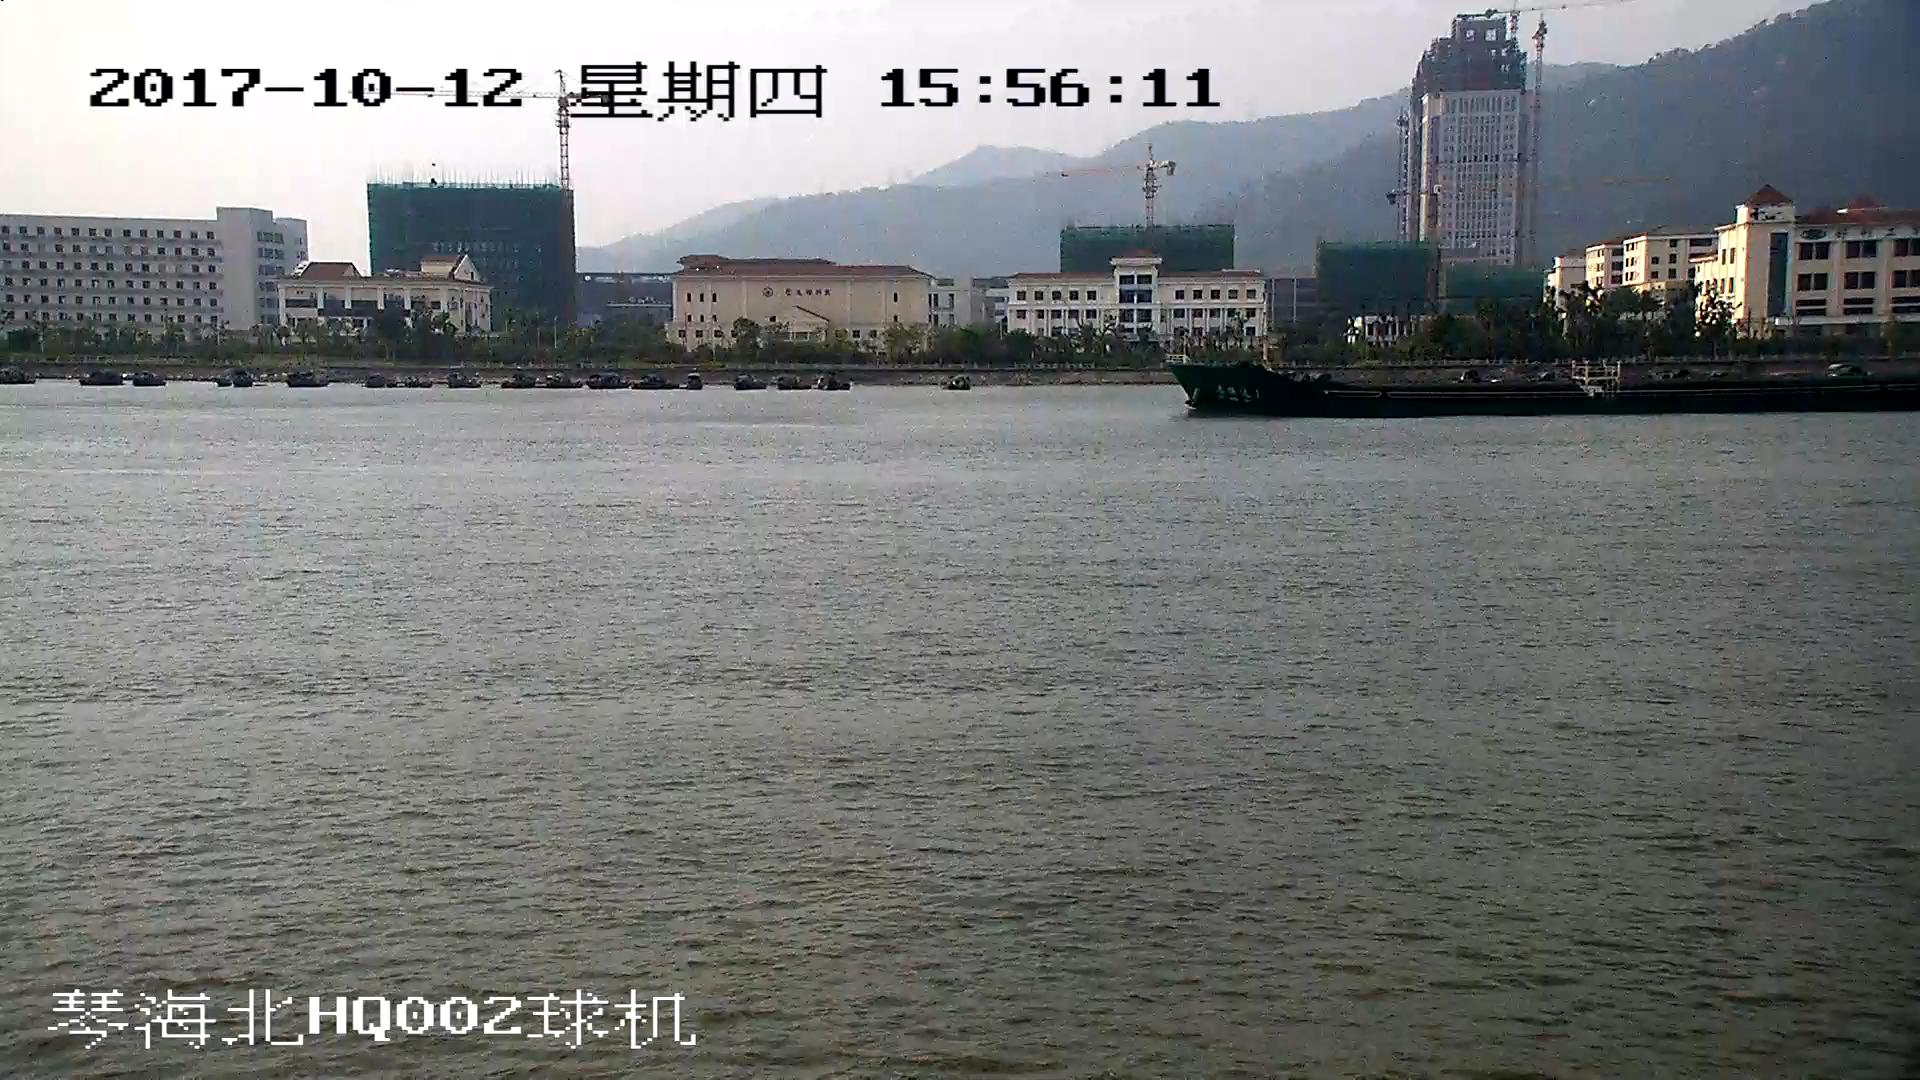general cargo ship: (1171, 307, 1920, 415)
